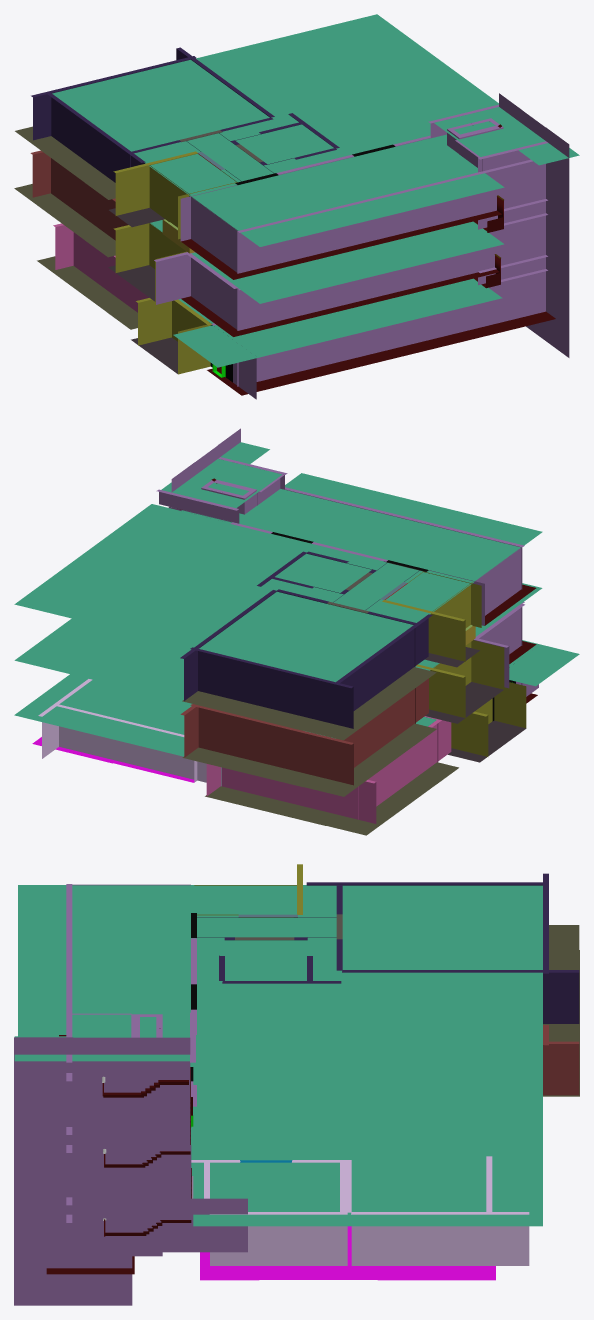
File: Layout.fbx
The picture shows the model from 3 angles, top to bottom: view 1: azimuth 30°, elevation 25°; view 2: azimuth 150°, elevation 25°; view 3: azimuth 270°, elevation 25°; orthographic projection. The views are drawn at different scales.
Parts seen in each view (by area): view 1: stena_banq13 (×2), Stena_apartament42 (×2), Stena_apartament40 (×2), Stena_apartament39 (×2), stena_banq12 (×2), Stena_apartament41 (×2), Stena_koridor219, Stena_koridor284, stena_banq2, Stena_koridor263, Stena_koridor255, Stena_koridor271 (+125 smaller); view 2: Stena_apartament39 (×2), Stena_apartament38 (×2), stena_banq13 (×2), Stena_koridor184 (×2), Stena_koridor186 (×2), Stena_koridor190 (×2), Stena_koridor189 (×2), Stena_apartament41 (×2), Stena_koridor185 (×2), Stena_apartament42 (×2), Stena_koridor191 (×2), Stena_apartament37 (×2) (+114 smaller); view 3: Stena_apartament47 (×2), Stena_koridor265, Stena_koridor227, Stena_koridor239, Stena_koridor226, Stena_koridor264, Stena_koridor266, Stena_koridor225, Stena_koridor267, Stena_koridor238, Stena_koridor179 (×2), Stena_koridor183 (×2) (+101 smaller).
Boxes of the visible parts, left/top/right/bottom form: stena_banq13 (×2): left=113, top=161, right=156, bottom=272; Stena_apartament42 (×2): left=71, top=110, right=98, bottom=227; Stena_apartament40 (×2): left=47, top=93, right=74, bottom=209; Stena_apartament39 (×2): left=30, top=86, right=73, bottom=197; stena_banq12 (×2): left=149, top=165, right=173, bottom=268; Stena_apartament41 (×2): left=94, top=127, right=121, bottom=240; Stena_koridor219: left=154, top=252, right=194, bottom=304; Stena_koridor284: left=479, top=275, right=519, bottom=327; stena_banq2: left=136, top=298, right=171, bottom=345; Stena_koridor263: left=479, top=163, right=520, bottom=214; Stena_koridor255: left=237, top=221, right=280, bottom=273; Stena_koridor271: left=478, top=220, right=520, bottom=271; Stena_apartament39 (×2): left=311, top=677, right=353, bottom=785; Stena_apartament38 (×2): left=270, top=667, right=313, bottom=775; stena_banq13 (×2): left=423, top=610, right=465, bottom=717; Stena_koridor184 (×2): left=37, top=571, right=100, bottom=653; Stena_koridor186 (×2): left=78, top=581, right=140, bottom=663; Stena_koridor190 (×2): left=14, top=587, right=77, bottom=670; Stena_koridor189 (×2): left=55, top=597, right=117, bottom=679; Stena_apartament41 (×2): left=382, top=631, right=408, bottom=746; Stena_koridor185 (×2): left=118, top=590, right=180, bottom=672; Stena_apartament42 (×2): left=358, top=648, right=385, bottom=763; Stena_koridor191 (×2): left=95, top=607, right=157, bottom=689; Stena_apartament37 (×2): left=405, top=614, right=432, bottom=729; Stena_apartament47 (×2): left=519, top=970, right=579, bottom=1095; Stena_koridor265: left=14, top=1144, right=73, bottom=1198; Stena_koridor227: left=72, top=1198, right=132, bottom=1252; Stena_koridor239: left=130, top=1091, right=190, bottom=1145; Stena_koridor226: left=73, top=1145, right=132, bottom=1198; Stena_koridor264: left=14, top=1091, right=72, bottom=1144; Stena_koridor266: left=14, top=1198, right=72, bottom=1252; Stena_koridor225: left=132, top=1145, right=191, bottom=1198; Stena_koridor267: left=14, top=1251, right=73, bottom=1305; Stena_koridor238: left=72, top=1091, right=130, bottom=1144; Stena_koridor179 (×2): left=193, top=1060, right=252, bottom=1156; Stena_koridor183 (×2): left=366, top=1060, right=425, bottom=1156.
Bounding box in the file's own units: 2702 × 1503 × 2873.
